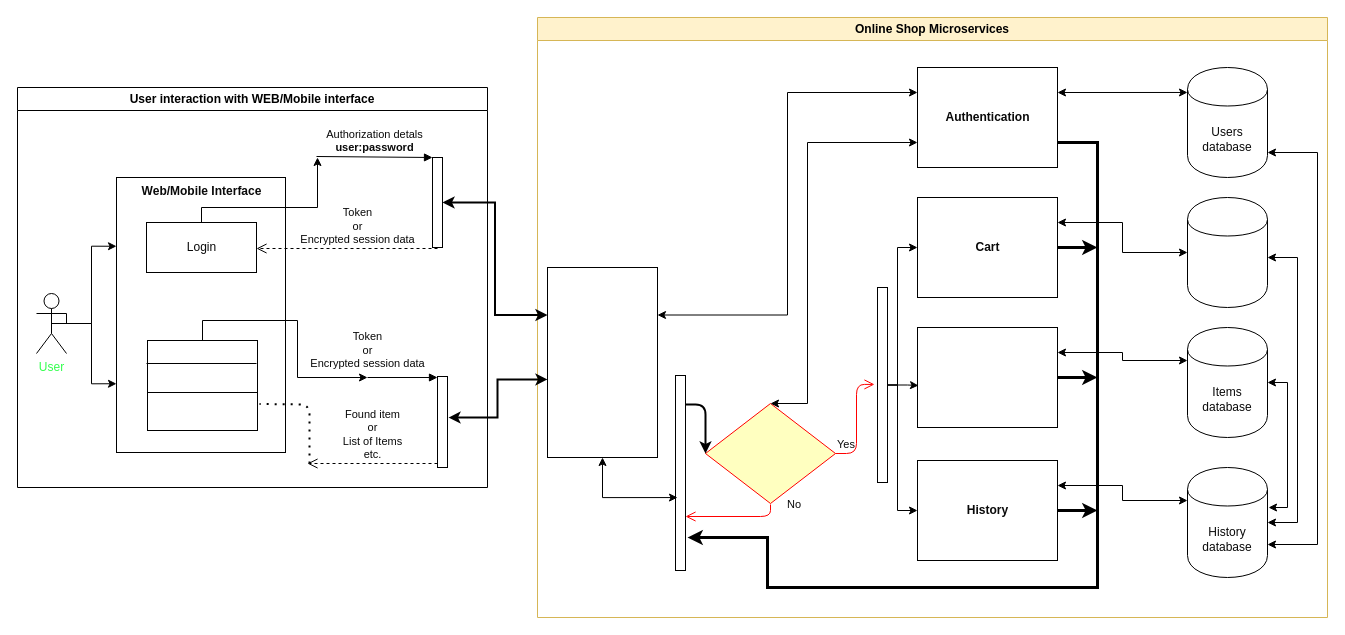
Image size: 1345x635. Some labels were removed from this diagram. Each missing label, with the centre of its shape:
Cart database: pixel 1227 252
Gateway: pixel 602 362
Items: pixel 987 377
Search item Add to cart Get Items list etc.: pixel 202 385
Verify token or encrypted session data: pixel 770 453
